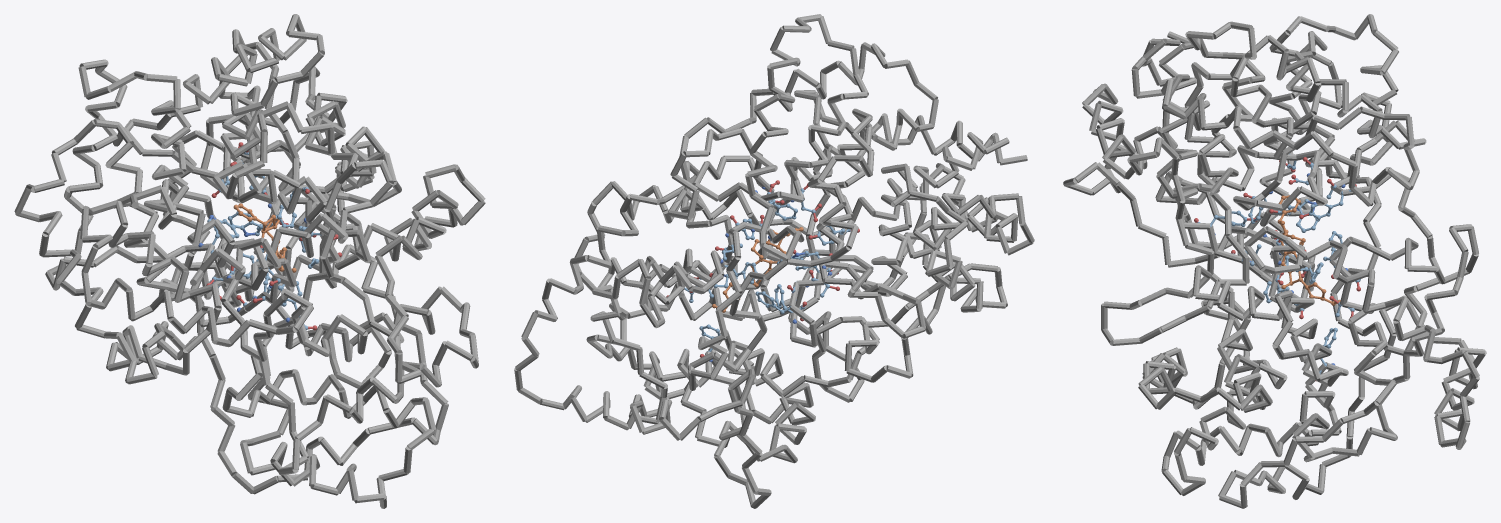
The model's file is SQHC_ALIAD.glb.
3 renders of one model, left to right at view 1: azimuth 30°, elevation 25°; view 2: azimuth 150°, elevation 25°; view 3: azimuth 270°, elevation 25°, orthographic. The views are drawn at different scales.
Parts seen in each view (by area): view 1: backbone, pocket_residues, ligand; view 2: backbone, pocket_residues; view 3: backbone, pocket_residues, ligand.
Boxes of the visible parts, left/top/right/bottom form: backbone: left=14, top=14, right=485, bottom=508; pocket_residues: left=198, top=142, right=341, bottom=330; ligand: left=233, top=203, right=296, bottom=272; backbone: left=514, top=14, right=1034, bottom=508; pocket_residues: left=666, top=180, right=859, bottom=362; backbone: left=1063, top=14, right=1486, bottom=508; pocket_residues: left=1194, top=153, right=1360, bottom=381; ligand: left=1270, top=195, right=1340, bottom=305.
Bounding box in the file's own units: 64.71 × 69.92 × 57.
